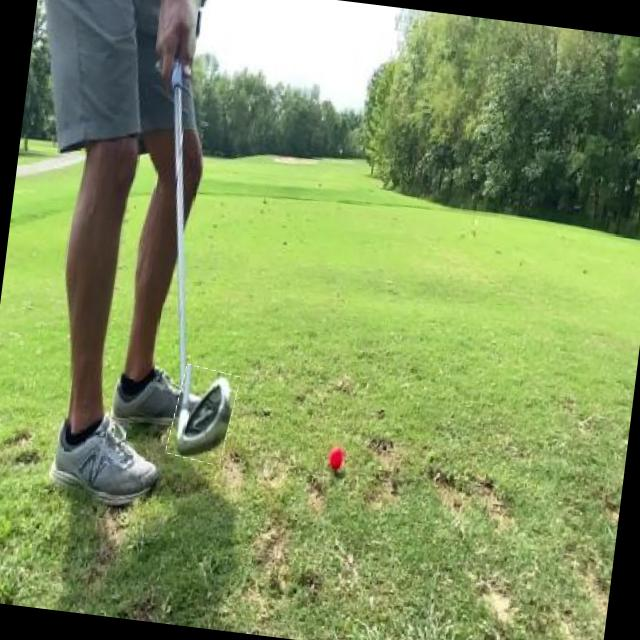club head: (166, 364, 238, 464)
